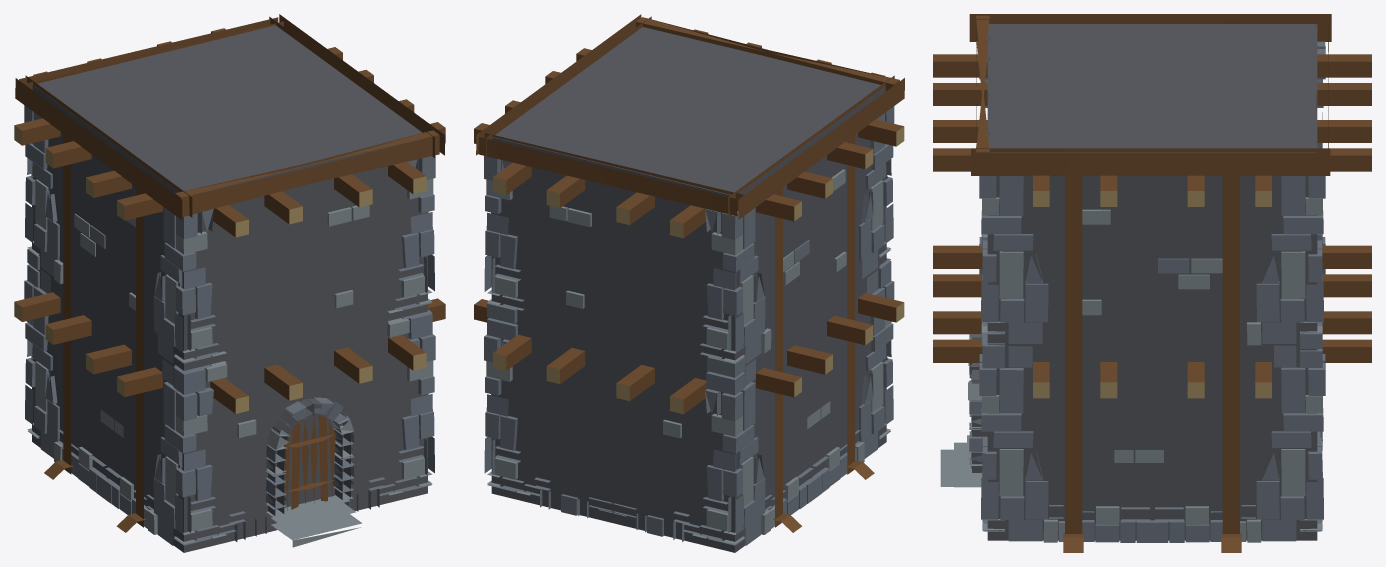
The model's file is bld-infirmary.glb.
3 renders of one model, left to right at view 1: azimuth 30°, elevation 25°; view 2: azimuth 150°, elevation 25°; view 3: azimuth 270°, elevation 25°, orthographic. The views are drawn at different scales.
Visible parts, largest first — view 1: House_3; view 2: House_3; view 3: House_3.
Part boxes in pixels (x1,y1,x2,y2): House_3: (14,14,445,552); House_3: (474,14,904,552); House_3: (933,14,1371,552).
Size of the model in its own units: 1.94 by 2.09 by 2.11.
